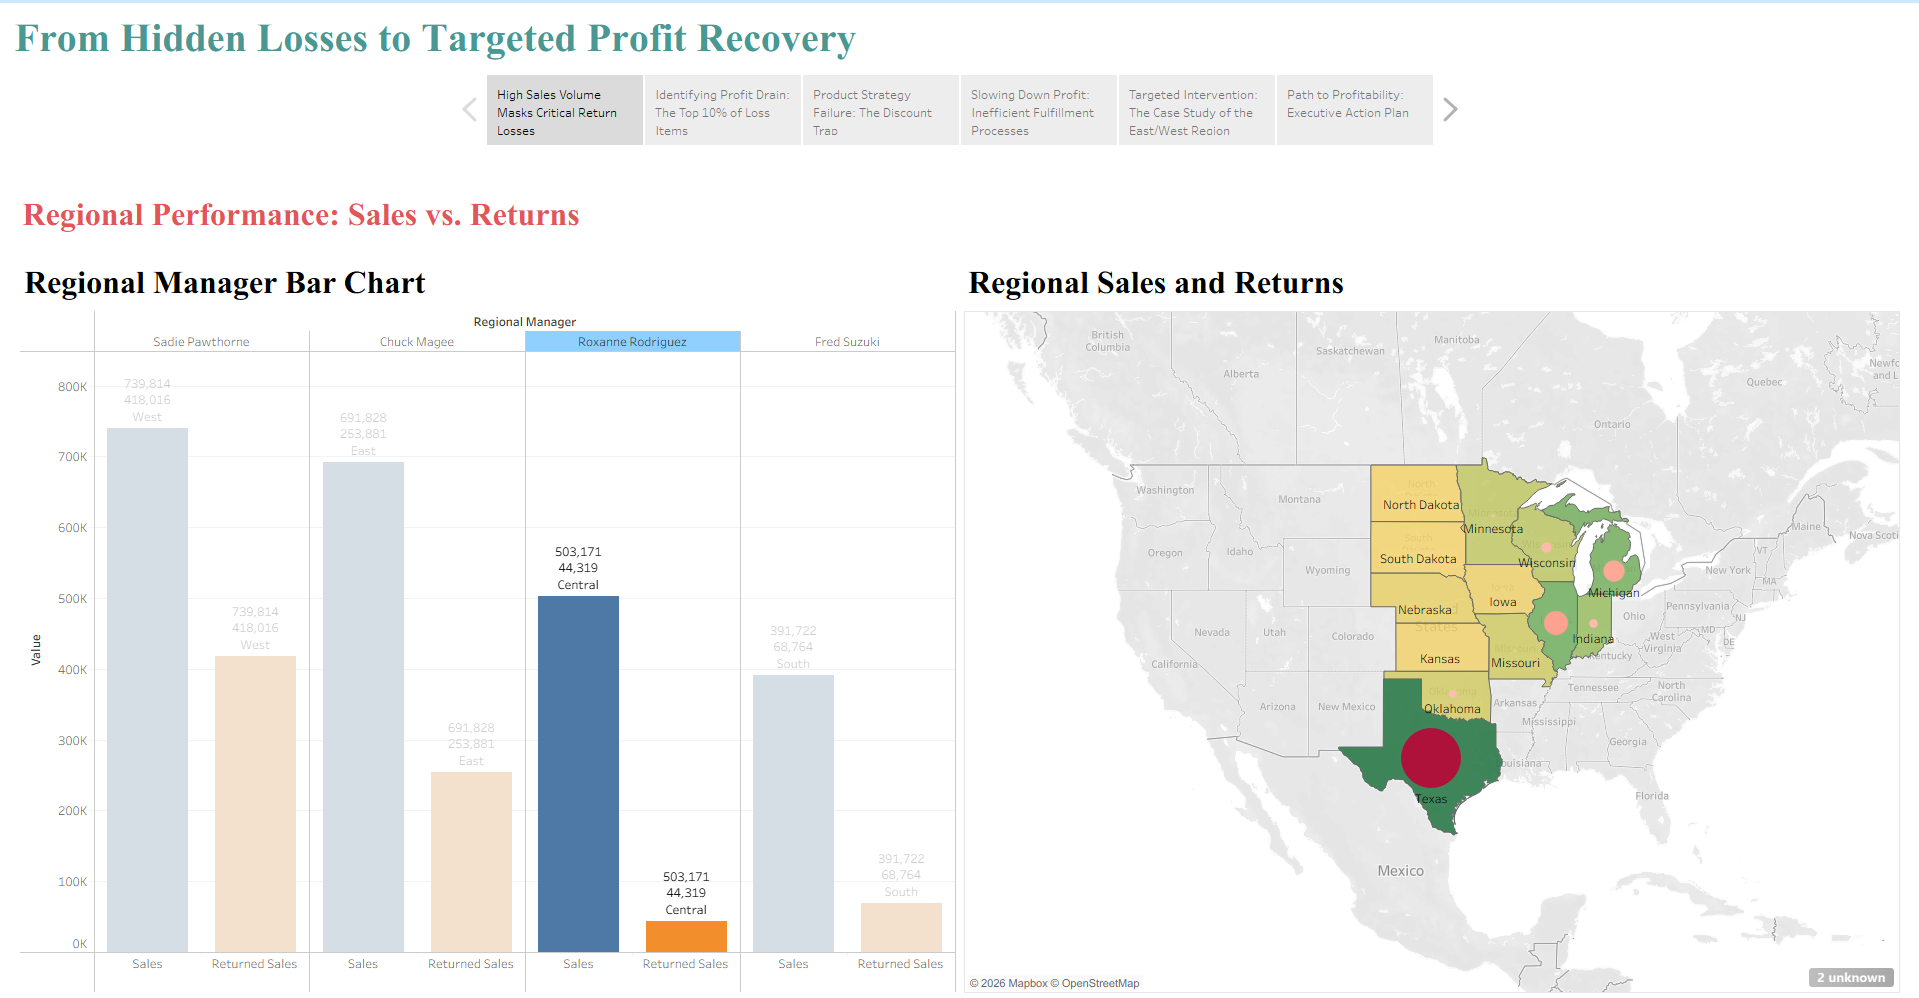

The dashboard page shown, as its layout file describes it:
{"tool":"tableau","page":{"name":"Regional Performance: Sales vs. Returns","canvas":[1000,1000],"units":"permille","ordinal":3},"visuals":[{"type":"text","box":[4.7,9.3,990.6,99.3]},{"type":"worksheet","title":"Regional Manager Bar Chart","mark":"Automatic","cols":["Regional Manager"],"box":[4.7,108.6,495.3,882]},{"type":"worksheet","title":"Regional Sales and Returns","mark":"Automatic","box":[500,108.6,495.3,882]}]}

Visuals, with their boxes on the dashboard's canvas, which has no fixed pixel size, in thousandths of its width and height (x1, y1, x2, y2). These are canvas units, not pixel positions in the 1919x998 screenshot, which may show the page scaled, cropped or inside an application window:
text: {"x1": 5, "y1": 9, "x2": 995, "y2": 109}
"Regional Manager Bar Chart" worksheet: {"x1": 5, "y1": 109, "x2": 500, "y2": 991}
"Regional Sales and Returns" worksheet: {"x1": 500, "y1": 109, "x2": 995, "y2": 991}
